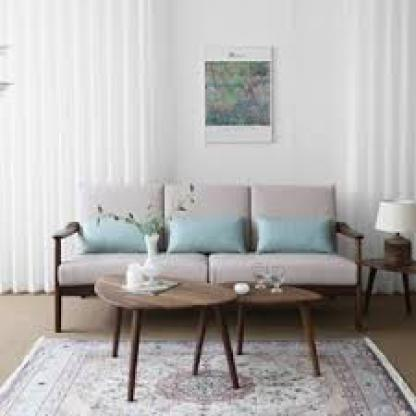sofa: (61, 178, 359, 292)
